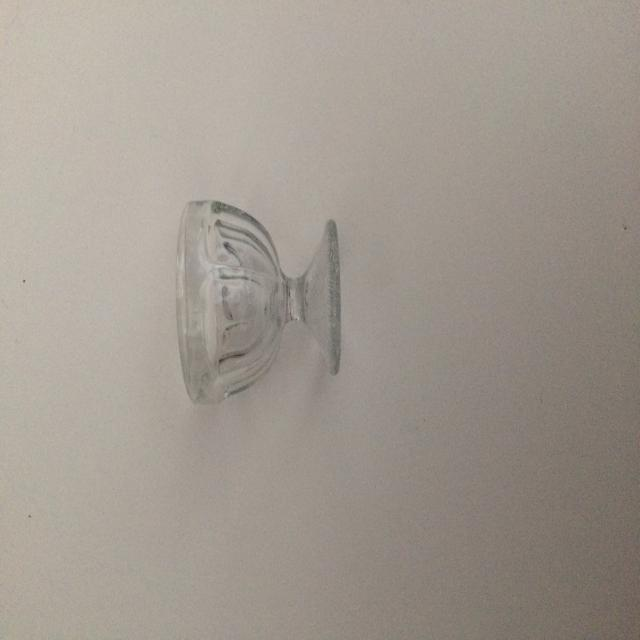glass: (172, 198, 340, 404)
